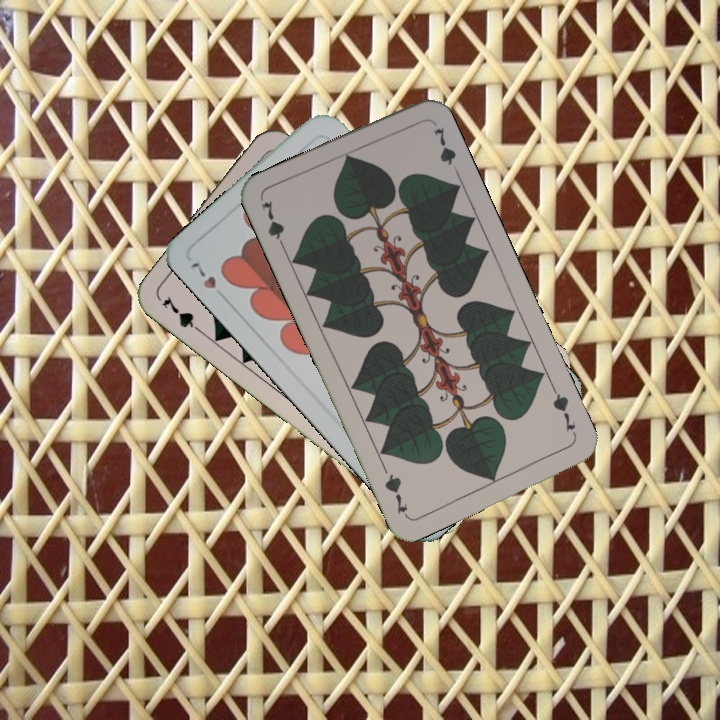G7: (157, 291, 208, 338), (257, 196, 289, 253), (548, 384, 580, 440)
H7: (185, 258, 230, 304)
